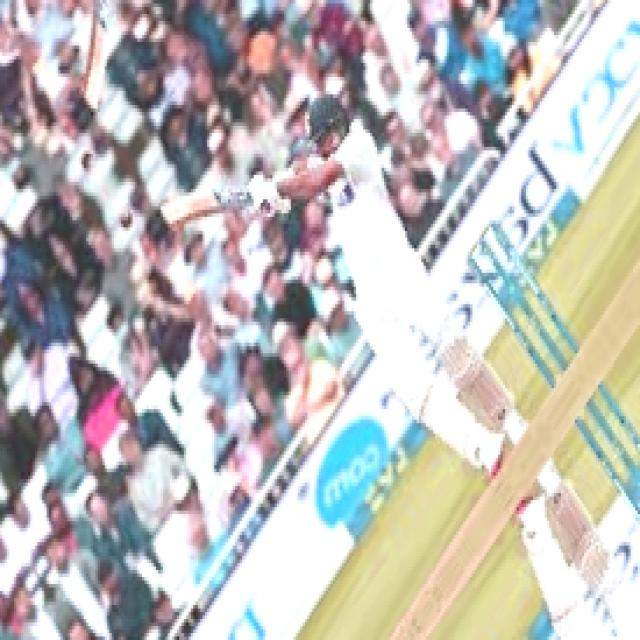toe: (154, 204, 181, 234)
